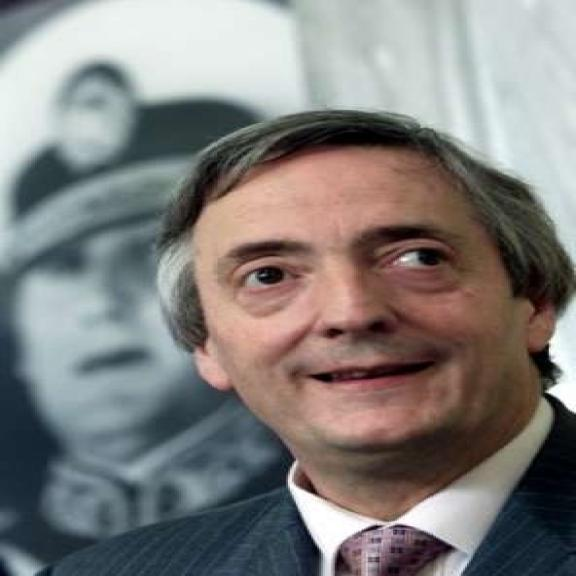face: (171, 110, 576, 457)
